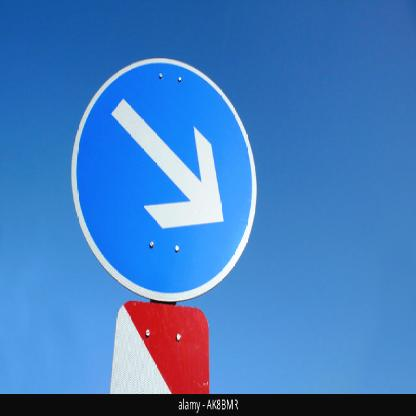Keep right: (65, 47, 264, 303)
